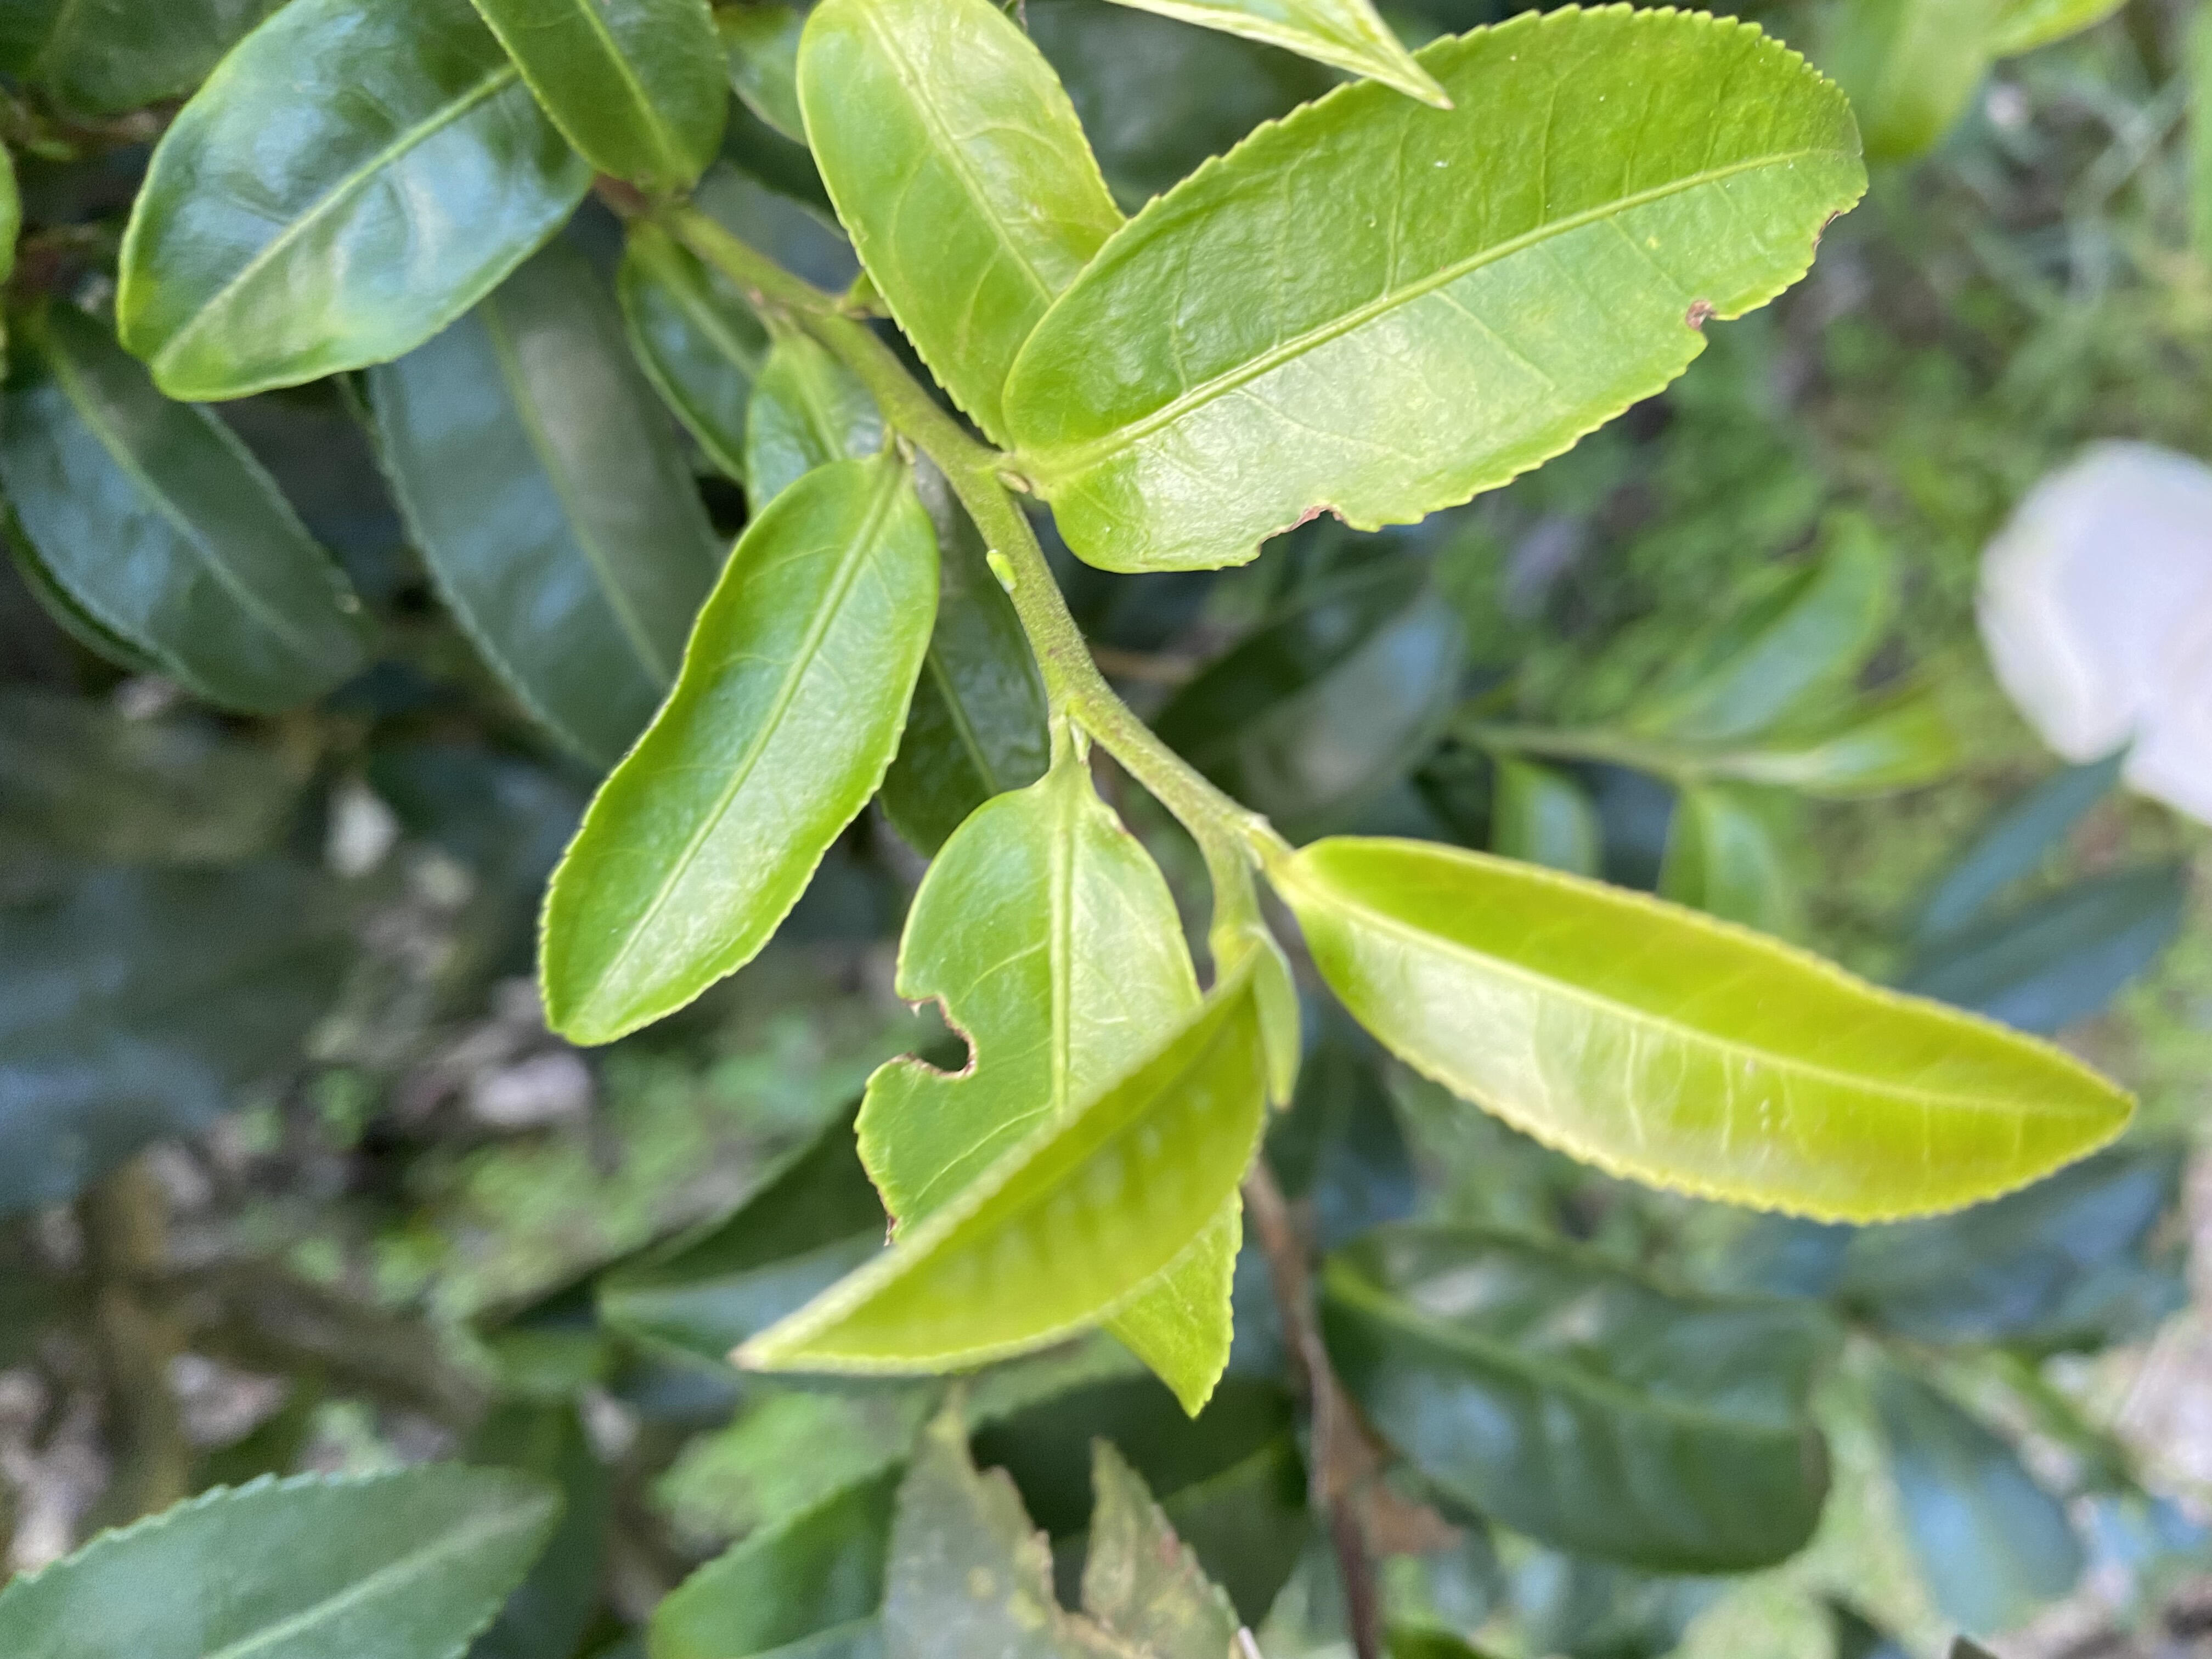chihuo_high: (1000, 5, 1871, 573)
chihuo_low: (853, 784, 1249, 1419)
healthy: (1284, 836, 2141, 1232), (533, 460, 942, 1053), (732, 953, 1271, 1377)
